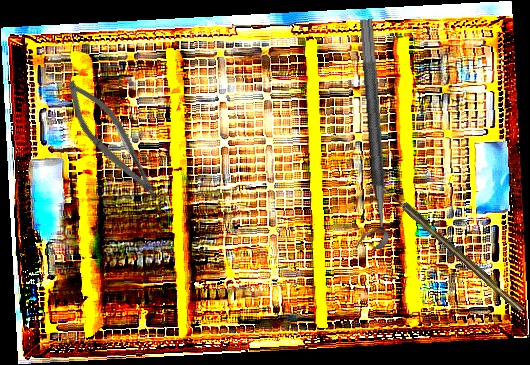Fixation Ring: (340, 19, 390, 251)
Hook Surgical: (381, 184, 526, 315)
Micro Scissor: (53, 72, 174, 208)
